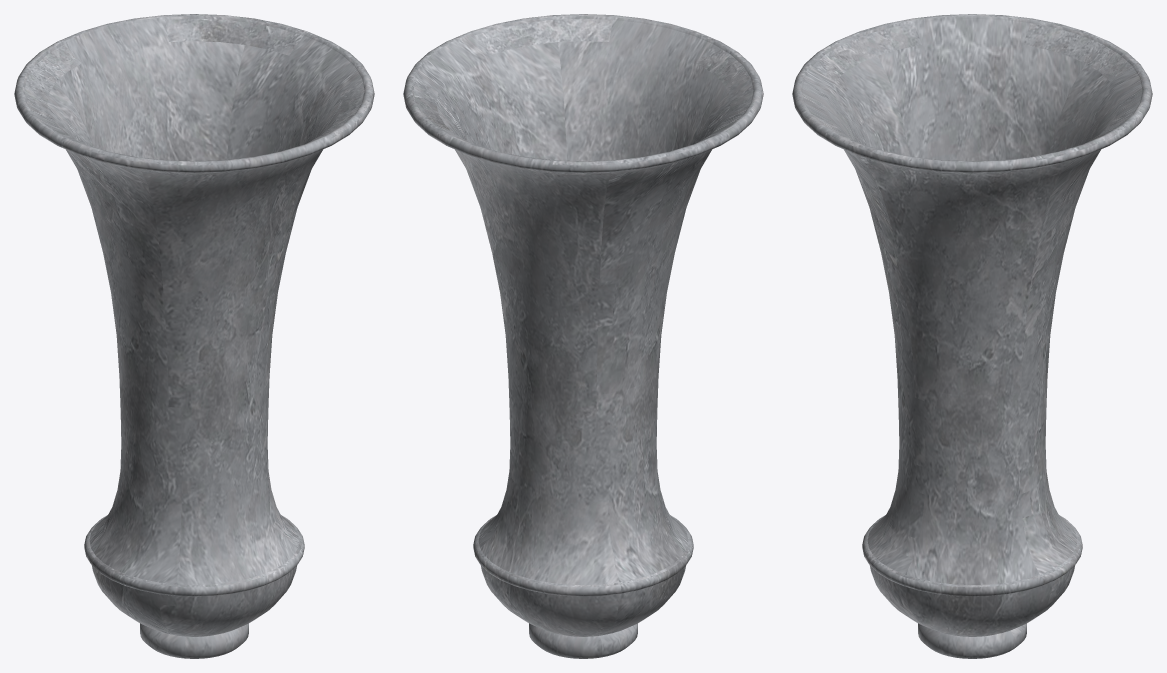
File: Vase4.fbx
The picture shows the model from 3 angles, left to right: view 1: azimuth 30°, elevation 25°; view 2: azimuth 150°, elevation 25°; view 3: azimuth 270°, elevation 25°; orthographic projection.
Visible parts, largest first — view 1: SM_Vase4_01; view 2: SM_Vase4_01; view 3: SM_Vase4_01.
Boxes of the visible parts, <box> form: SM_Vase4_01: <box>14,14,374,658</box>; SM_Vase4_01: <box>403,14,763,658</box>; SM_Vase4_01: <box>792,14,1152,658</box>.
Bounding box in the file's own units: 25.97 × 43.74 × 25.97.
